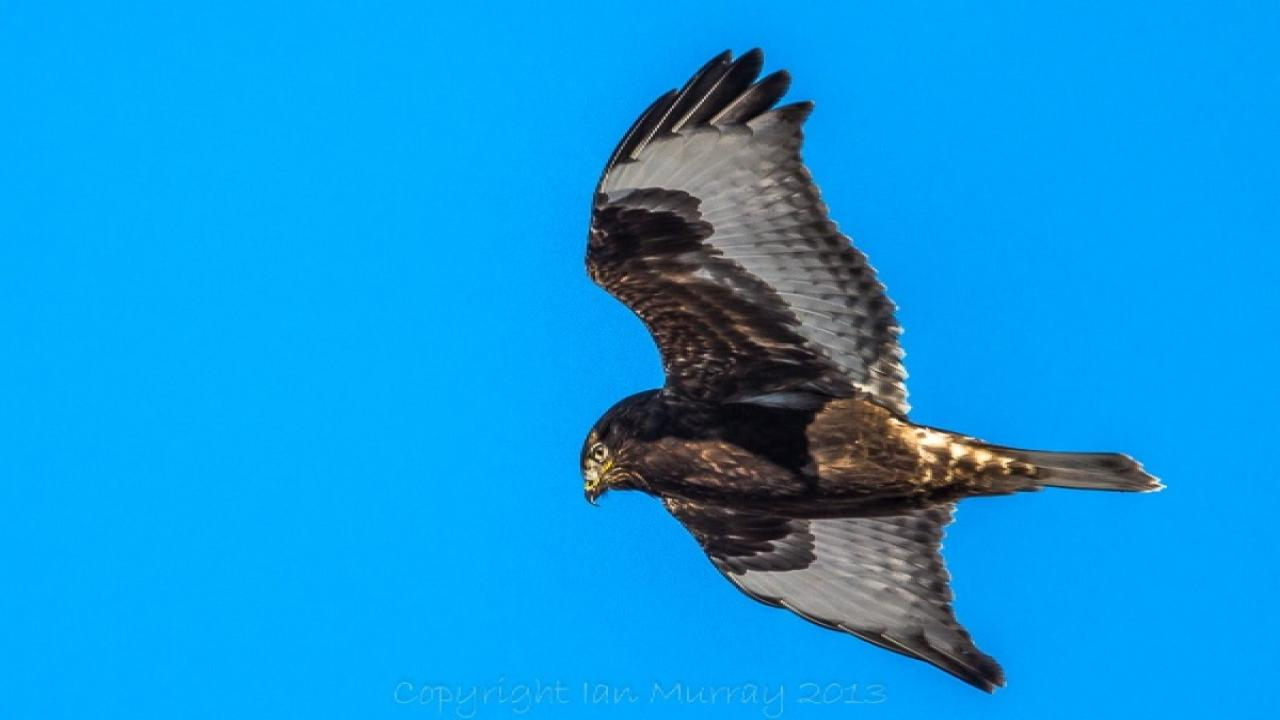Bird: (559, 40, 1188, 701)
